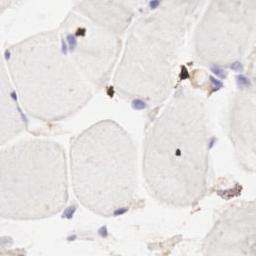nucleus: (210, 65, 227, 80), (237, 75, 252, 89), (130, 98, 146, 111), (62, 205, 77, 218), (67, 33, 77, 52), (17, 103, 27, 122), (114, 206, 130, 216), (60, 33, 67, 55), (231, 61, 243, 73), (209, 77, 221, 89), (97, 224, 108, 236), (208, 137, 217, 149), (150, 1, 159, 8), (10, 89, 16, 99), (68, 235, 76, 242), (5, 49, 10, 60)
positive_cell: (205, 77, 223, 97)
